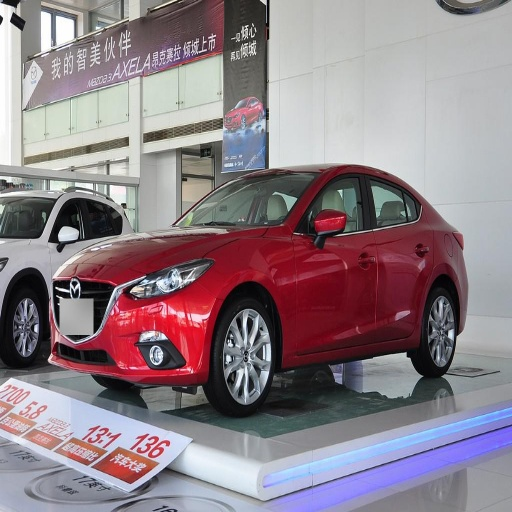back_glass: (364, 171, 432, 336), (86, 199, 117, 231)
back_right_light: (53, 270, 221, 381)
front_bumper: (180, 172, 315, 228), (19, 200, 52, 235)
front_glass: (294, 170, 377, 352), (49, 196, 89, 287)
front_left_door: (122, 259, 210, 300)
front_right_light: (82, 226, 271, 284)
trunk: (209, 297, 277, 414), (415, 287, 458, 377), (5, 294, 42, 364)
